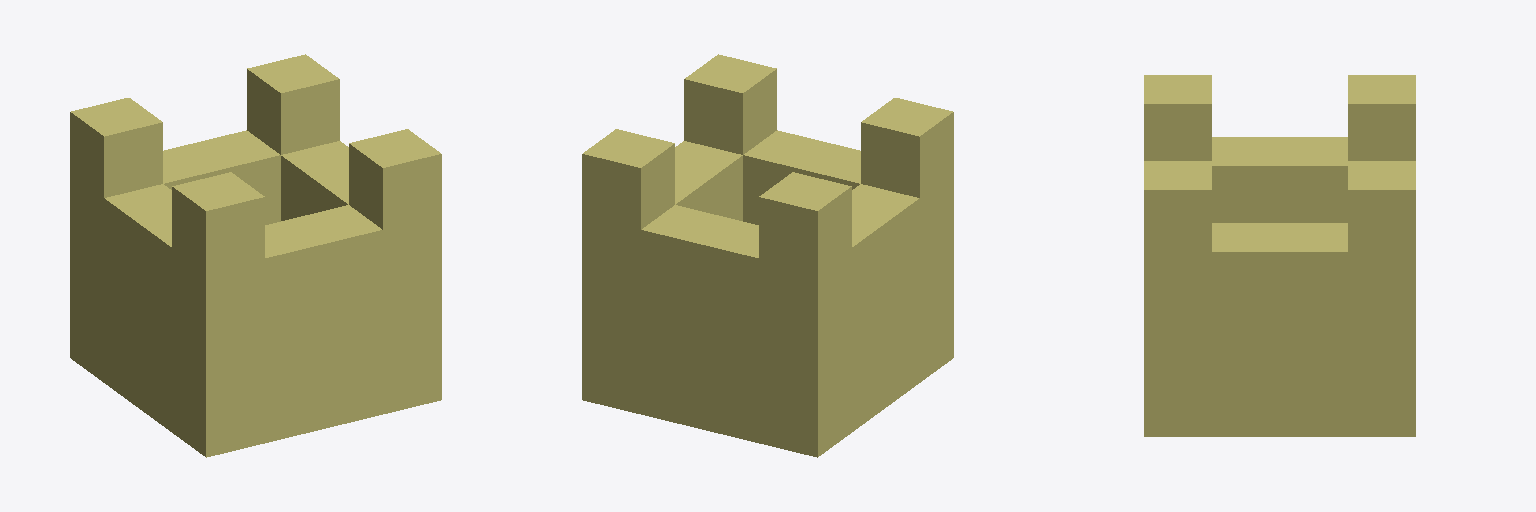
3 renders of one model, left to right at view 1: azimuth 30°, elevation 25°; view 2: azimuth 150°, elevation 25°; view 3: azimuth 270°, elevation 25°, orthographic.
Visible parts, largest first — view 1: object 1; view 2: object 1; view 3: object 1.
Part boxes in pixels (left/top/right/bottom): object 1: left=70, top=54, right=441, bottom=457; object 1: left=582, top=54, right=953, bottom=457; object 1: left=1144, top=75, right=1415, bottom=436.
Size of the model in its own units: 0.4 by 0.4 by 0.4.
1 materials, 1 textured.